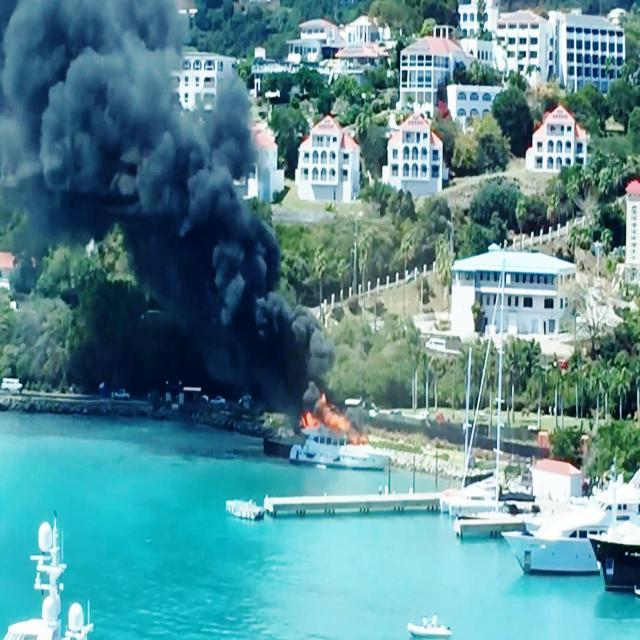Fire: (296, 396, 370, 448)
Smoke: (1, 0, 187, 239), (133, 96, 284, 298), (205, 294, 333, 399)
